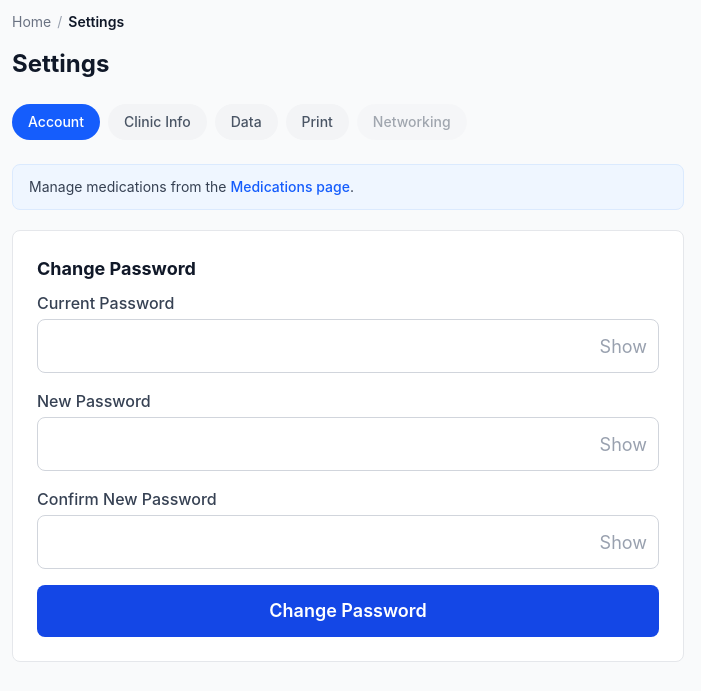
Scenario: SettingsPage - Print tab › clicking Print tab shows PrintSettings component
Click the button "Print".
click(317, 122)  # box x1=286 y1=104 x2=349 y2=140
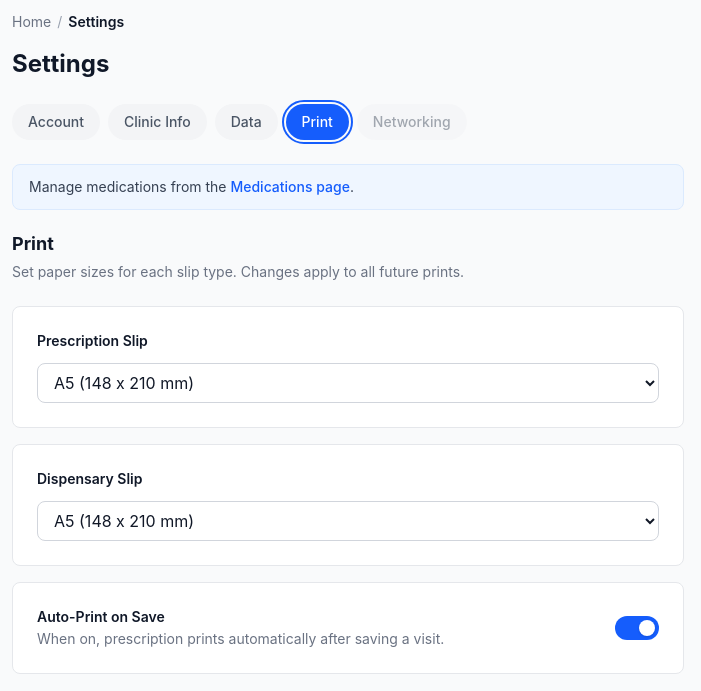
Check: the text "Set paper sizes for each slip type" is shown, box x1=12 y1=263 x2=464 y2=280
